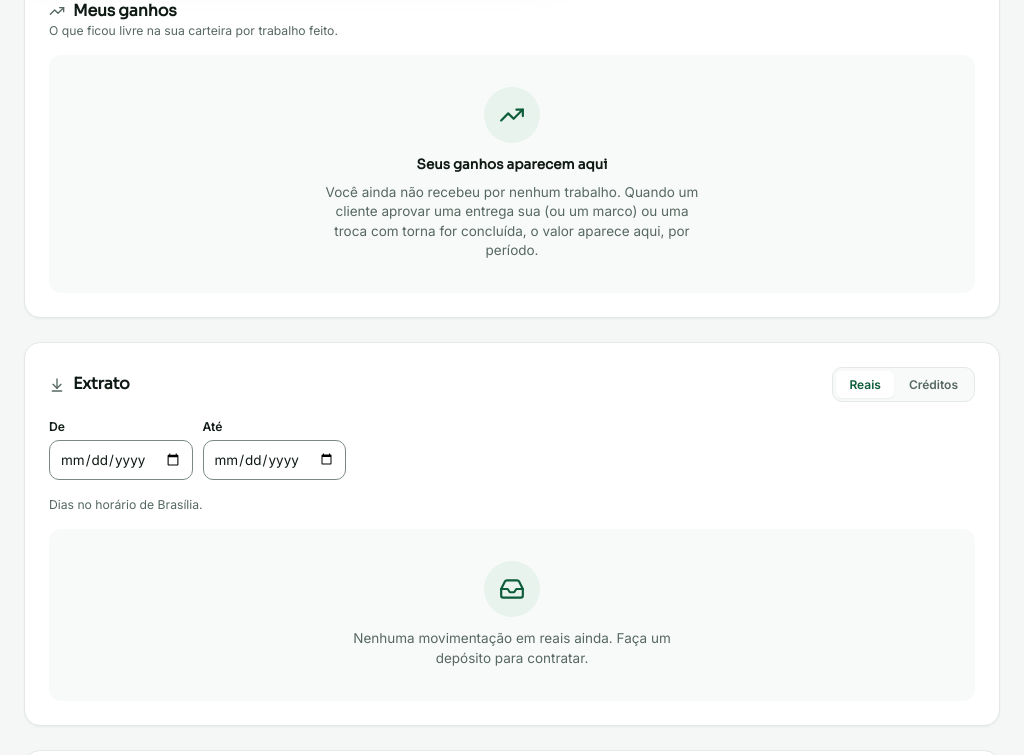
Test: CarteiraView: saldos e estados › sem movimentação nenhuma, cada lista diz que está vazia
(page scrolled)
Expected: the text "Nenhuma movimentação em reais ainda. Faça um depósito para contratar." is shown, [353, 630, 671, 666]
Click the tab "Créditos" at coordinates (933, 384), box [896, 371, 971, 398]
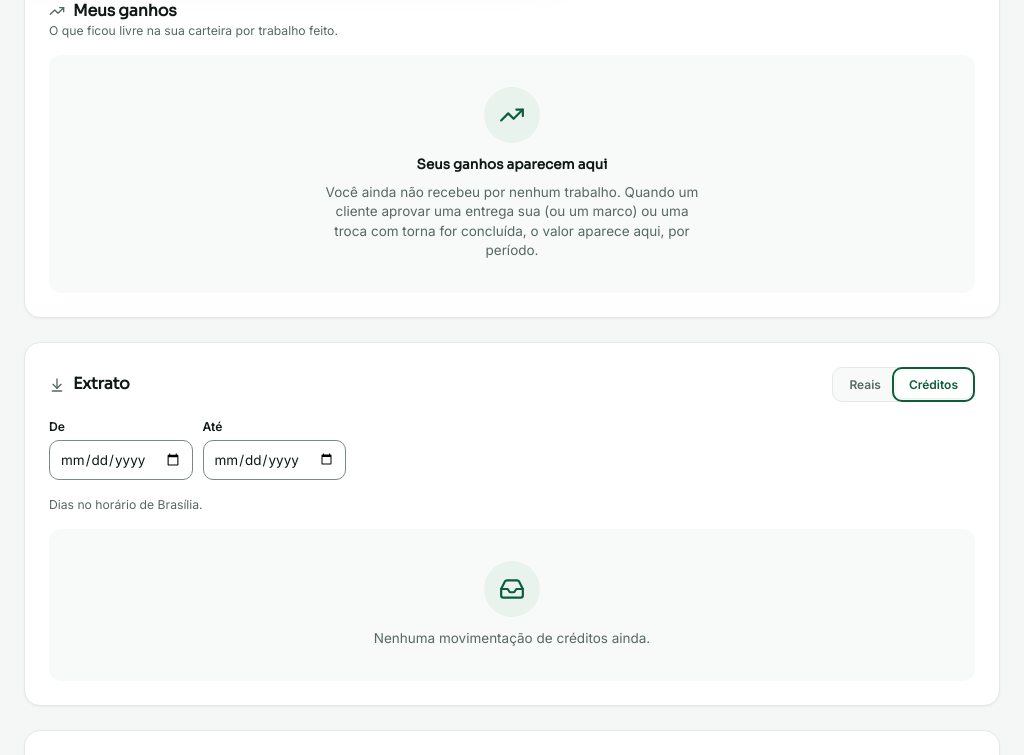
Expected: the text "Nenhuma movimentação de créditos ainda." is shown, [374, 629, 650, 649]
